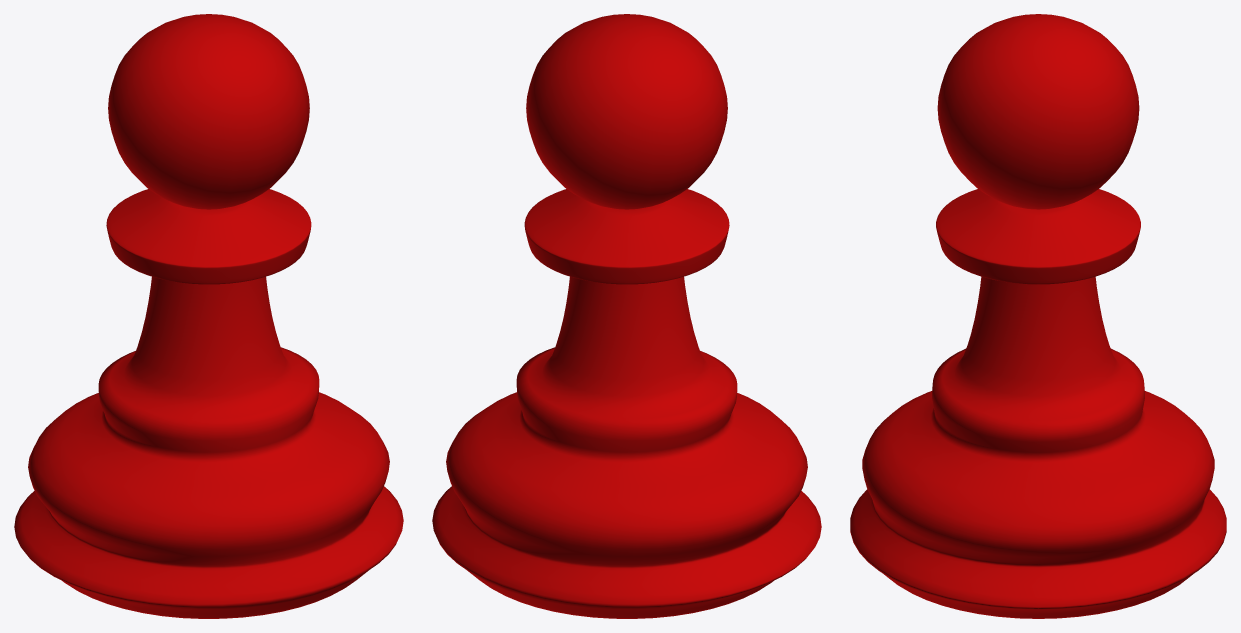
File: red_pawn_hop.fbx
The picture shows the model from 3 angles, left to right: view 1: azimuth 30°, elevation 25°; view 2: azimuth 150°, elevation 25°; view 3: azimuth 270°, elevation 25°; orthographic projection.
Parts seen in each view (by area): view 1: Pawn_red; view 2: Pawn_red; view 3: Pawn_red.
Boxes of the visible parts, x1,y1,x2,y2 form: Pawn_red: (14,14,403,618); Pawn_red: (432,14,821,618); Pawn_red: (850,14,1226,618).
Bounding box in the file's own units: 1.94 × 2.86 × 1.86.
